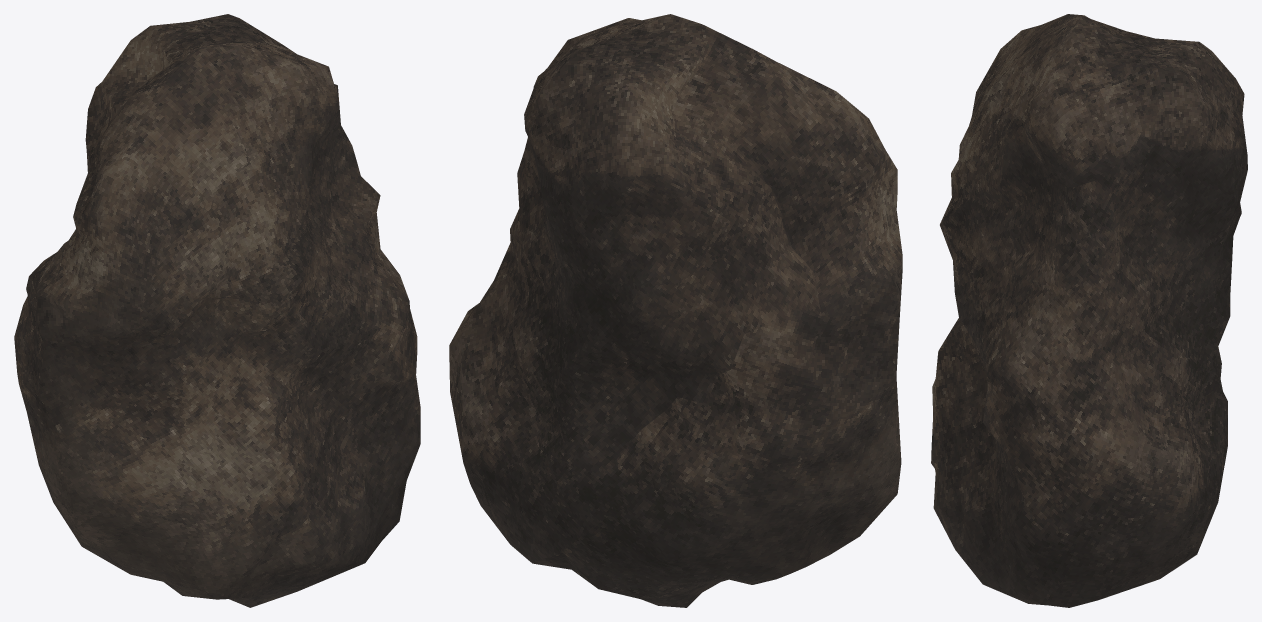
The model's file is SM_RP2_Rock_4m_10.glb.
The picture shows the model from 3 angles, left to right: view 1: azimuth 30°, elevation 25°; view 2: azimuth 150°, elevation 25°; view 3: azimuth 270°, elevation 25°; orthographic projection. The views are drawn at different scales.
Visible parts, largest first — view 1: SM_RP2_Rock_4m_10; view 2: SM_RP2_Rock_4m_10; view 3: SM_RP2_Rock_4m_10.
Part boxes in pixels (box(x1,y1,x2,y2)): SM_RP2_Rock_4m_10: box(14, 14, 420, 607); SM_RP2_Rock_4m_10: box(449, 14, 902, 607); SM_RP2_Rock_4m_10: box(931, 14, 1247, 607).
Bounding box in the file's own units: 5.33 × 7.19 × 3.7.
Materials: 1 (1 with a texture image).
